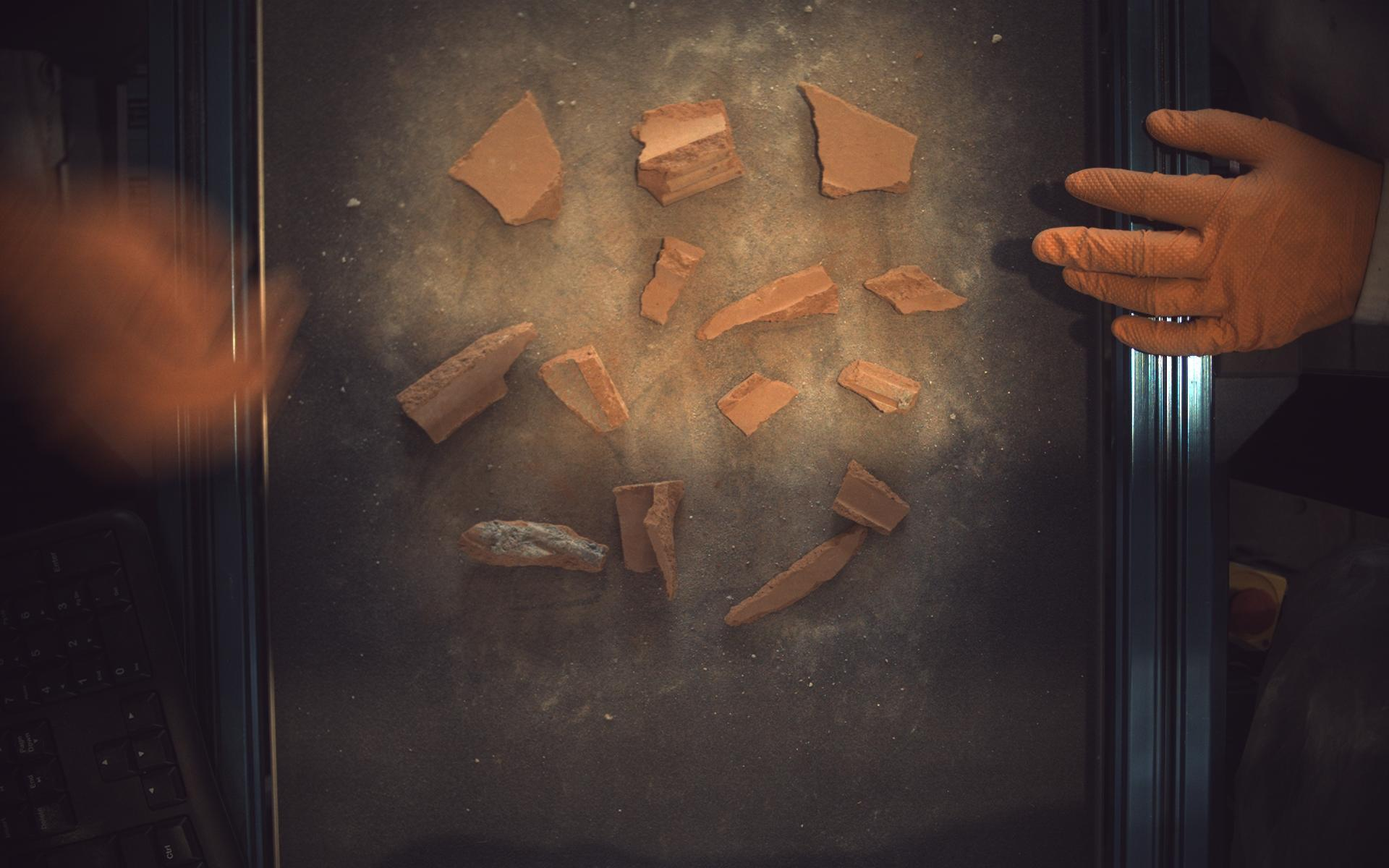brick: (397, 322, 538, 443), (449, 90, 564, 224), (726, 525, 870, 628), (800, 80, 919, 197), (632, 99, 745, 204), (697, 264, 840, 340), (613, 480, 685, 600), (539, 344, 629, 434), (459, 520, 609, 573), (833, 460, 912, 535), (641, 236, 706, 323), (718, 373, 799, 435), (867, 265, 969, 314), (840, 359, 923, 413)
